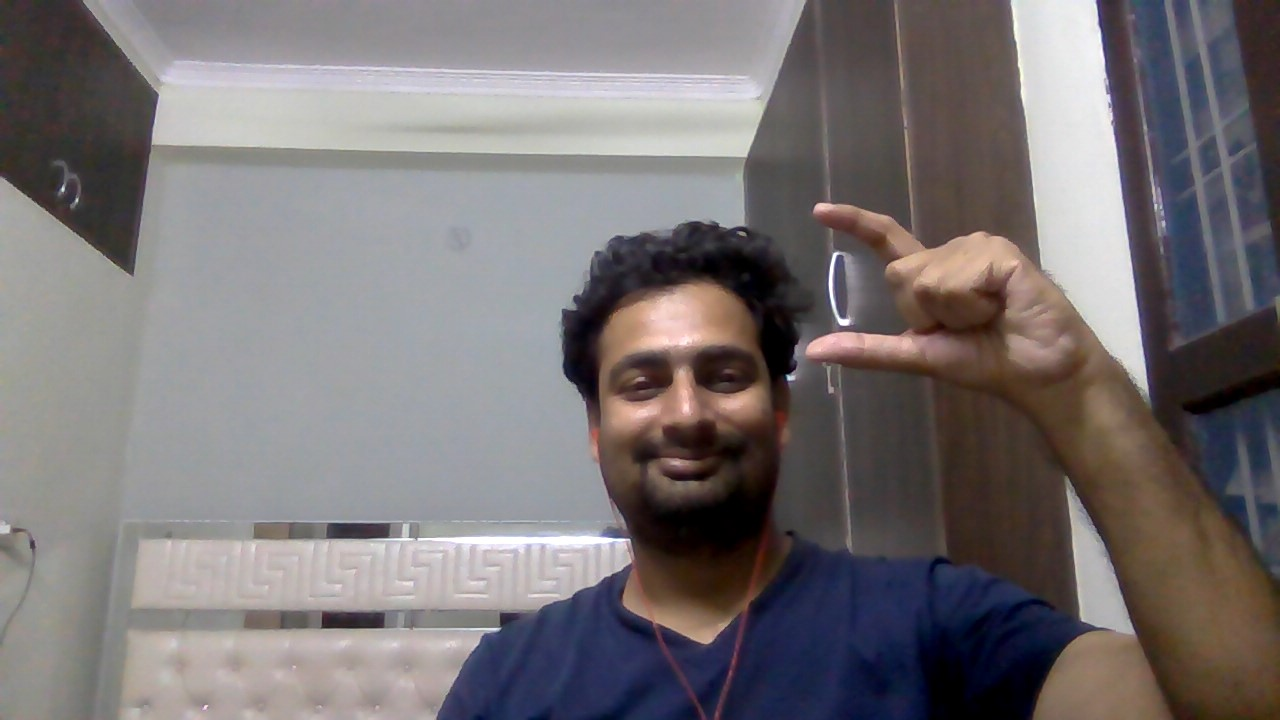Paste: (798, 187, 1120, 410)
